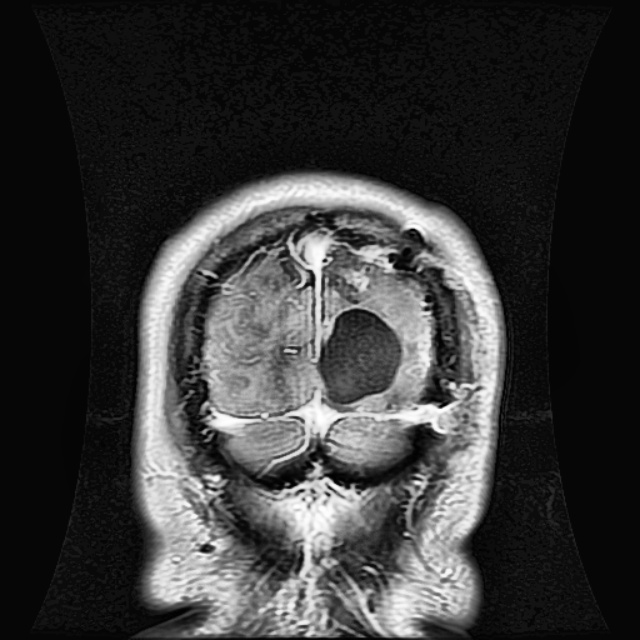Meningioma: (319, 307, 404, 402)
